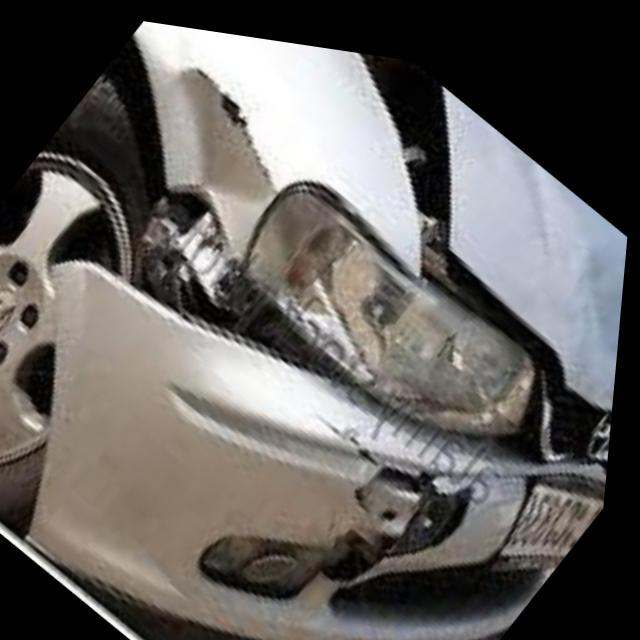dislocated part: (143, 19, 623, 639)
